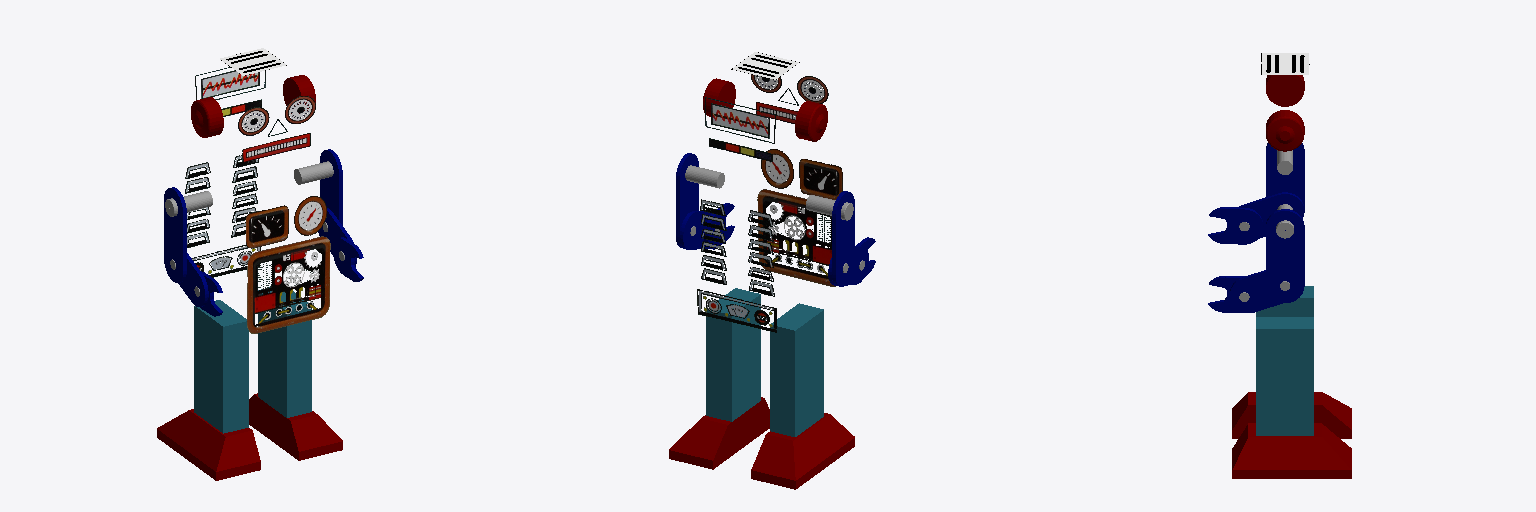
The picture shows the model from 3 angles: view 1: azimuth 30°, elevation 25°; view 2: azimuth 150°, elevation 25°; view 3: azimuth 270°, elevation 25°; orthographic projection.
Visible parts, largest first — view 1: Leg_Cube.002, Body_Cube.001, feet_Cube.003, head_Cube.004, Cylinder.002_Cylinder.005, Cylinder, Cylinder.003_Cylinder.001, Cylinder.005_Cylinder.004, Cylinder.001_Cylinder.003; view 2: Leg_Cube.002, Body_Cube.001, feet_Cube.003, head_Cube.004, Cylinder.002_Cylinder.005, Cylinder, Cylinder.003_Cylinder.001, Cylinder.001_Cylinder.003, Cylinder.005_Cylinder.004; view 3: Leg_Cube.002, feet_Cube.003, Cylinder.002_Cylinder.005, Cylinder, Cylinder.003_Cylinder.001, Cylinder.005_Cylinder.004, head_Cube.004, Cylinder.001_Cylinder.003.
Boxes of the visible parts, box(x1,y1,x2,y2) form: Leg_Cube.002: box(194, 287, 311, 433); Body_Cube.001: box(185, 155, 330, 333); feet_Cube.003: box(157, 393, 342, 480); head_Cube.004: box(195, 48, 315, 162); Cylinder.002_Cylinder.005: box(164, 149, 342, 282); Cylinder: box(191, 75, 315, 137); Cylinder.003_Cylinder.001: box(178, 208, 356, 306); Cylinder.005_Cylinder.004: box(200, 237, 363, 316); Cylinder.001_Cylinder.003: box(165, 161, 333, 216); Leg_Cube.002: box(706, 288, 823, 436); Body_Cube.001: box(697, 149, 842, 332); feet_Cube.003: box(669, 397, 854, 489); head_Cube.004: box(705, 52, 828, 161); Cylinder.002_Cylinder.005: box(676, 153, 854, 286); Cylinder: box(703, 78, 827, 141); Cylinder.003_Cylinder.001: box(680, 211, 868, 285); Cylinder.001_Cylinder.003: box(685, 165, 853, 220); Cylinder.005_Cylinder.004: box(704, 203, 875, 277); Leg_Cube.002: box(1256, 286, 1313, 435); feet_Cube.003: box(1232, 392, 1351, 478); Cylinder.002_Cylinder.005: box(1266, 143, 1304, 302); Cylinder: box(1266, 75, 1304, 151); Cylinder.003_Cylinder.001: box(1230, 192, 1304, 312); Cylinder.005_Cylinder.004: box(1208, 207, 1263, 312); head_Cube.004: box(1261, 53, 1309, 74); Cylinder.001_Cylinder.003: box(1276, 150, 1293, 238).
Bounding box in the file's own units: 3.14 × 6.87 × 2.32.
Materials: 6 (2 with a texture image).